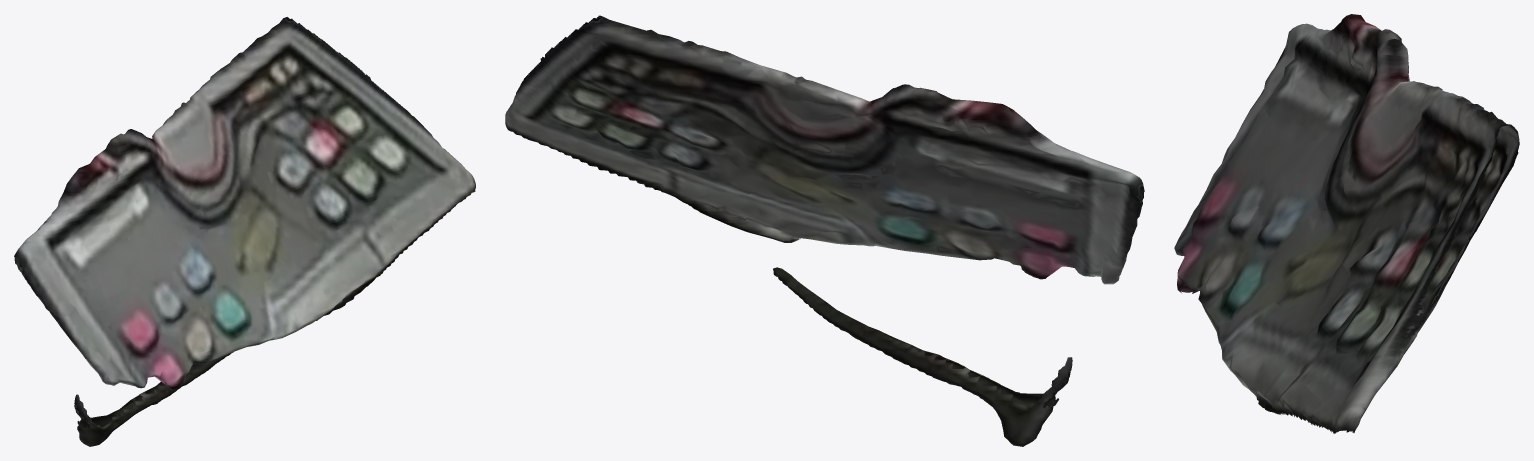
File: techconsole.glb
The picture shows the model from 3 angles, left to right: view 1: azimuth 30°, elevation 25°; view 2: azimuth 150°, elevation 25°; view 3: azimuth 270°, elevation 25°; orthographic projection. The views are drawn at different scales.
Visible parts, largest first — view 1: geometry_0; view 2: geometry_0; view 3: geometry_0.
Boxes of the visible parts, x1=… form: geometry_0: x1=14, y1=17, x2=475, y2=446; geometry_0: x1=505, y1=15, x2=1144, y2=446; geometry_0: x1=1174, y1=14, x2=1519, y2=433.
Bounding box in the file's own units: 1.08 × 0.6868 × 0.4858.
Materials: 1 (1 with a texture image).
